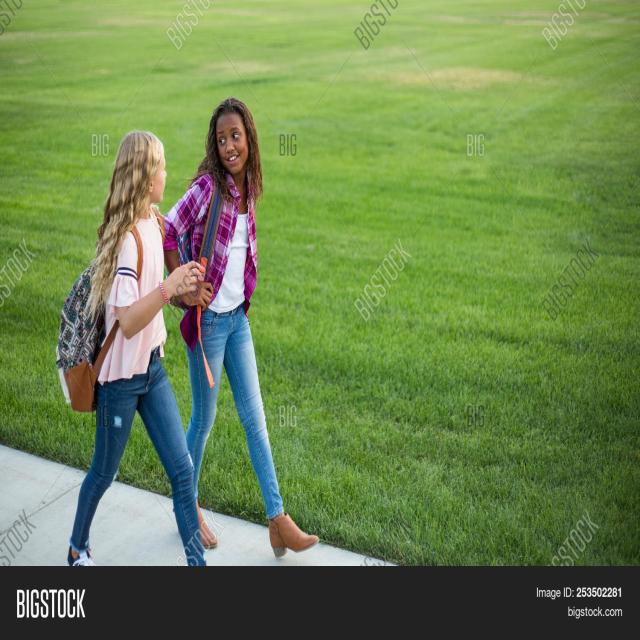Person: (158, 97, 320, 556), (55, 129, 203, 566)
